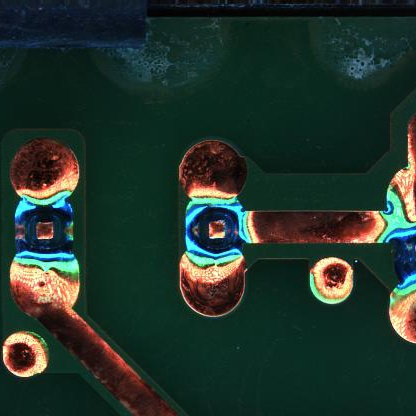spot: (15, 197, 76, 259), (184, 199, 246, 258)
